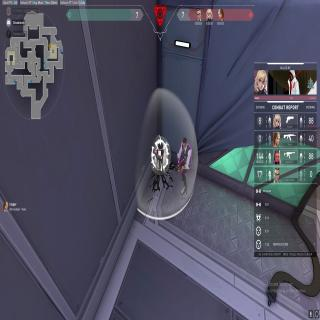ENEMY-BODY: (177, 133, 192, 197)
ENEMY-HEAD: (182, 135, 187, 149)
